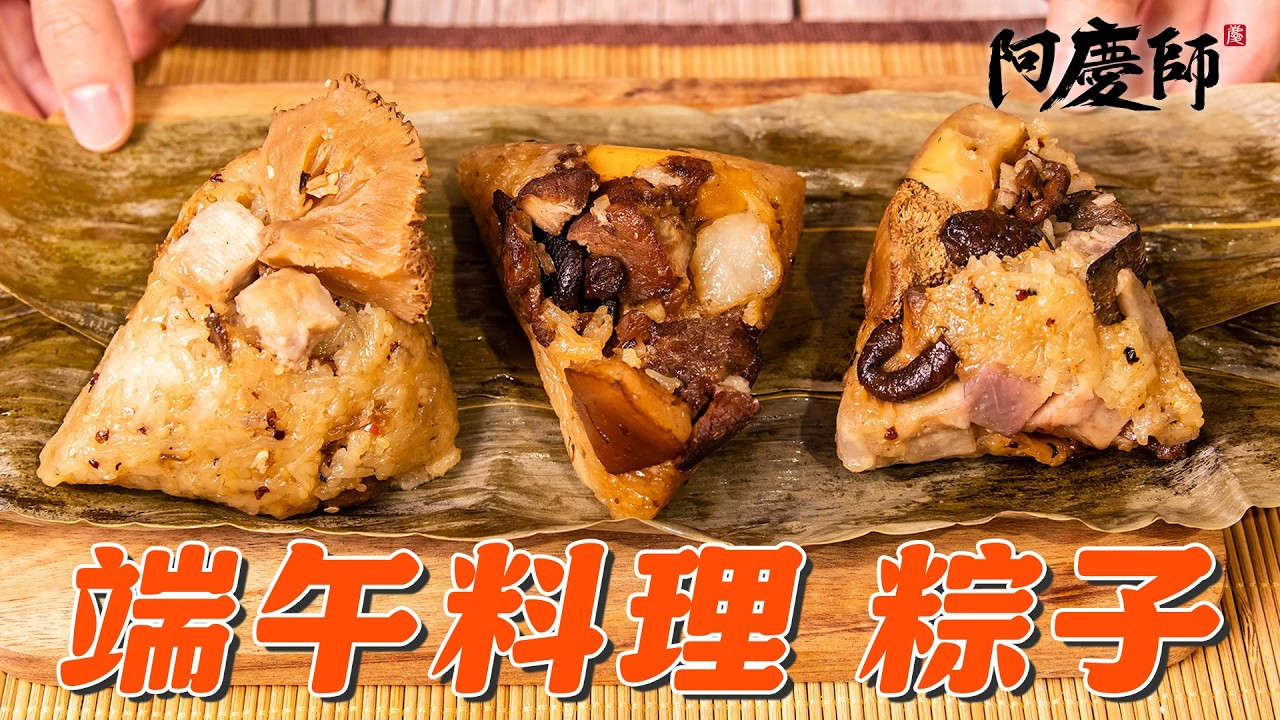zongzi: (38, 77, 459, 517), (838, 104, 1202, 471), (458, 143, 802, 516)
